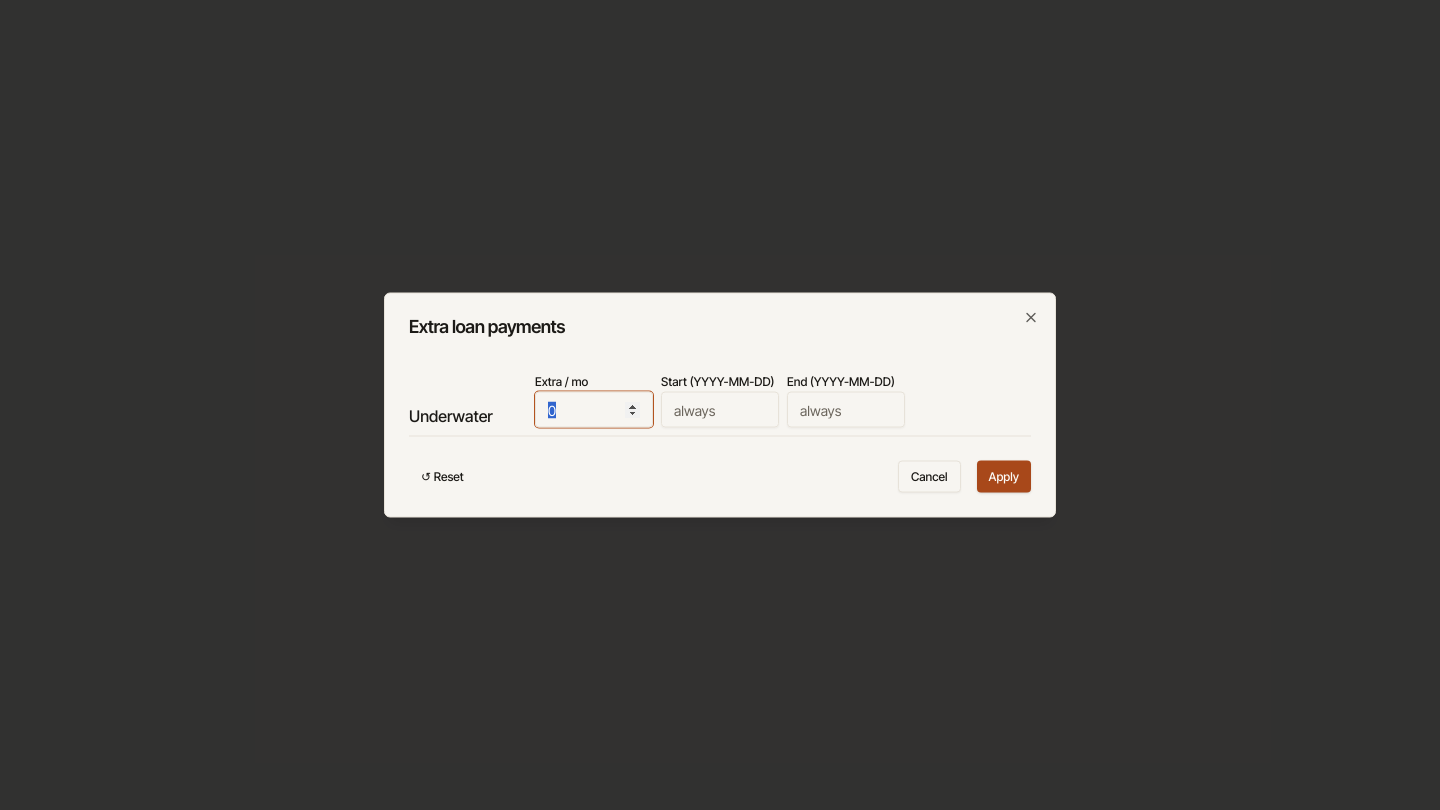
never-pays-off guard (wave-7 W1) › rescued: shows the real payoff but suppresses the capped-baseline comparison
# $2,000 extra → $3,000/mo amortizes (~139 months).
Replace the text in the number field labelled "Extra / mo" with "2000": [594, 410] box x1=535 y1=392 x2=653 y2=428
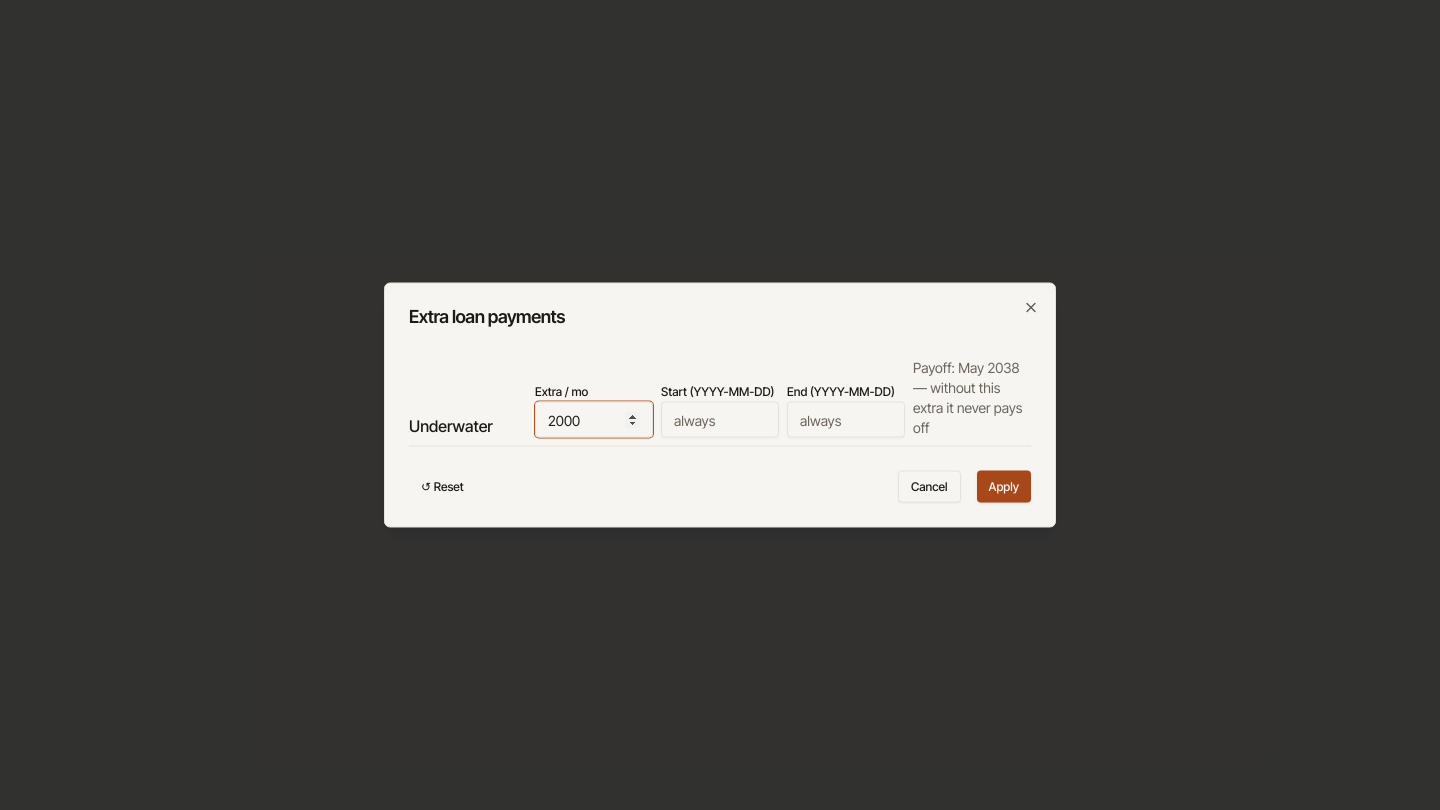
Check: the text with test id "whatif-extra-rescued-9" reads "Payoff: May 2038 — without this extra it never pays off", box x1=913 y1=358 x2=1022 y2=436
